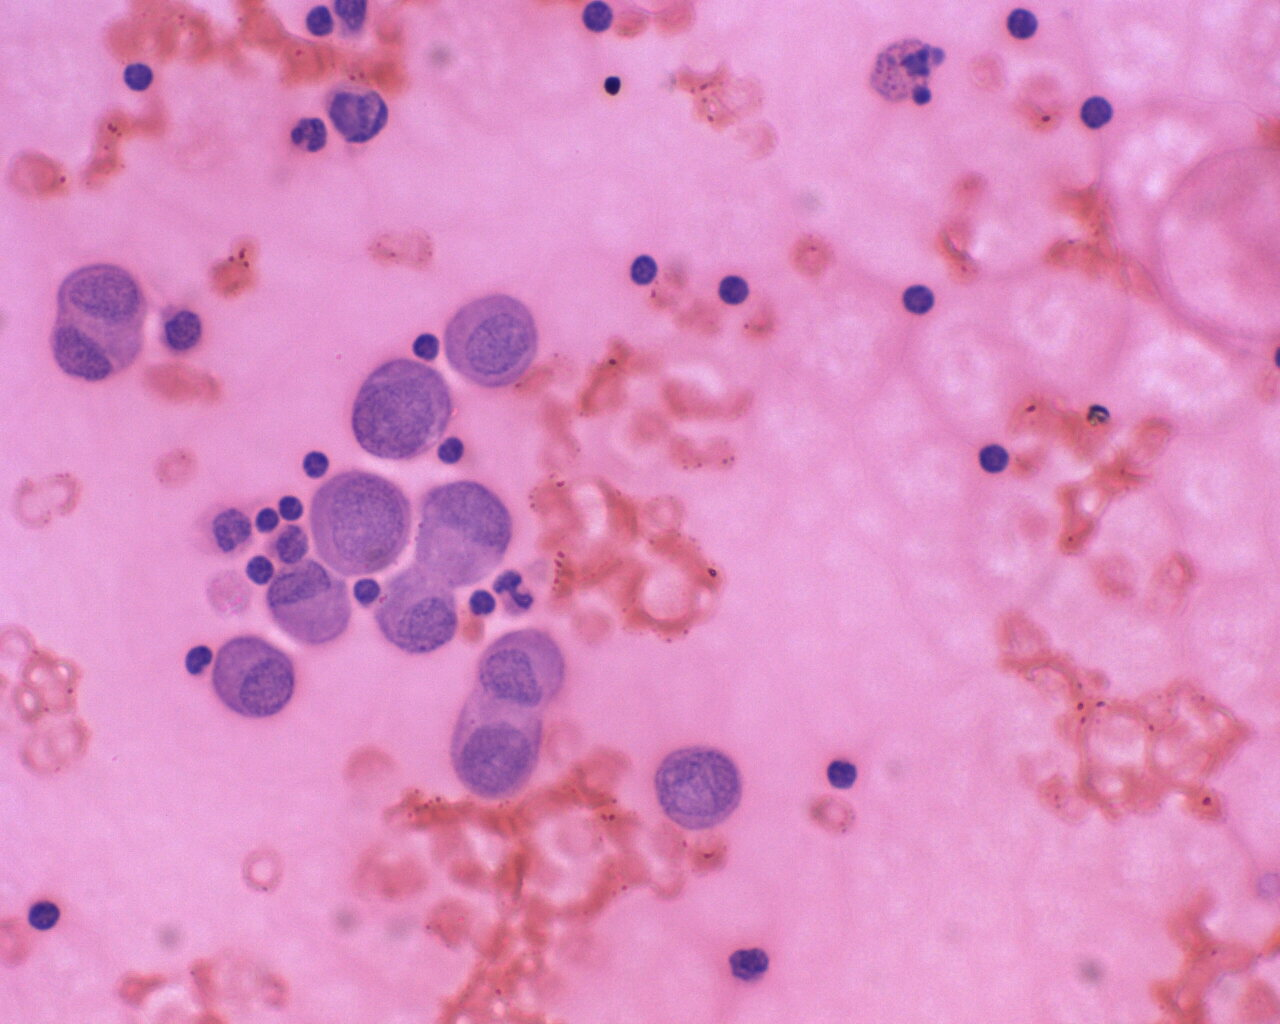ab: (42, 266, 153, 386), (416, 483, 519, 591), (349, 360, 452, 466), (439, 283, 542, 387), (309, 476, 412, 580), (453, 697, 546, 808), (655, 739, 750, 837), (372, 567, 466, 661), (212, 631, 304, 725), (475, 622, 571, 713), (266, 562, 358, 647)
normal: (289, 104, 333, 164), (709, 266, 764, 311), (118, 57, 168, 103), (1074, 88, 1119, 134), (894, 274, 941, 317), (621, 249, 664, 294), (26, 897, 74, 934), (827, 754, 864, 799), (1002, 5, 1045, 43), (301, 444, 335, 485), (979, 440, 1017, 476), (241, 552, 281, 585), (410, 325, 442, 366), (579, 3, 619, 36), (303, 5, 339, 41), (438, 432, 469, 470), (353, 575, 389, 607), (467, 587, 501, 621), (276, 489, 307, 523)
